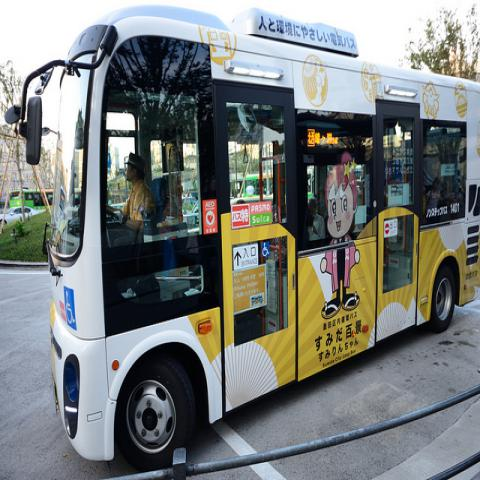bus: (7, 6, 479, 465)
car: (0, 207, 40, 229)
